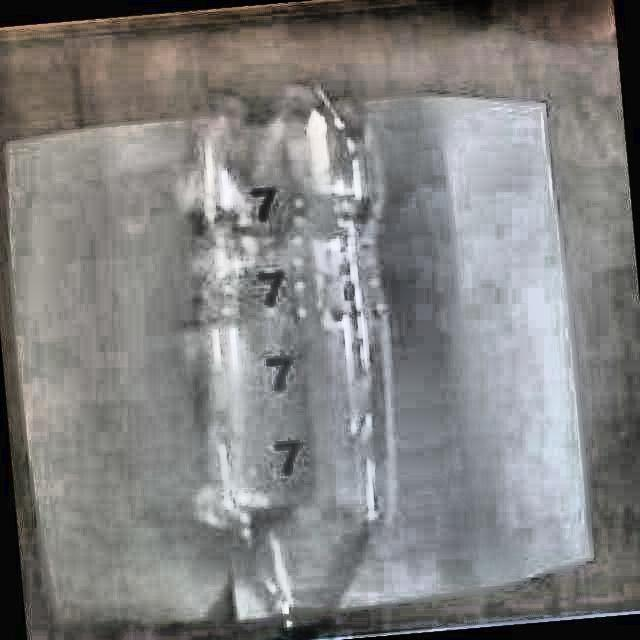plastic bottle: (188, 80, 390, 640)
